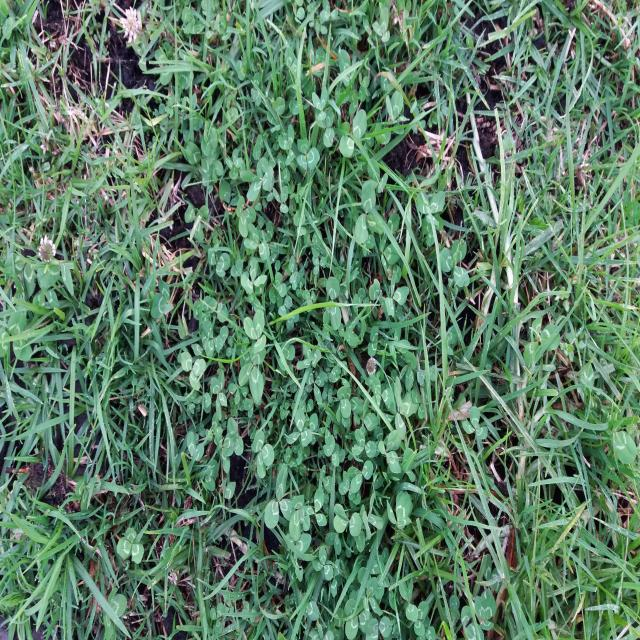Four Leaf Clover: (210, 370, 227, 421)
